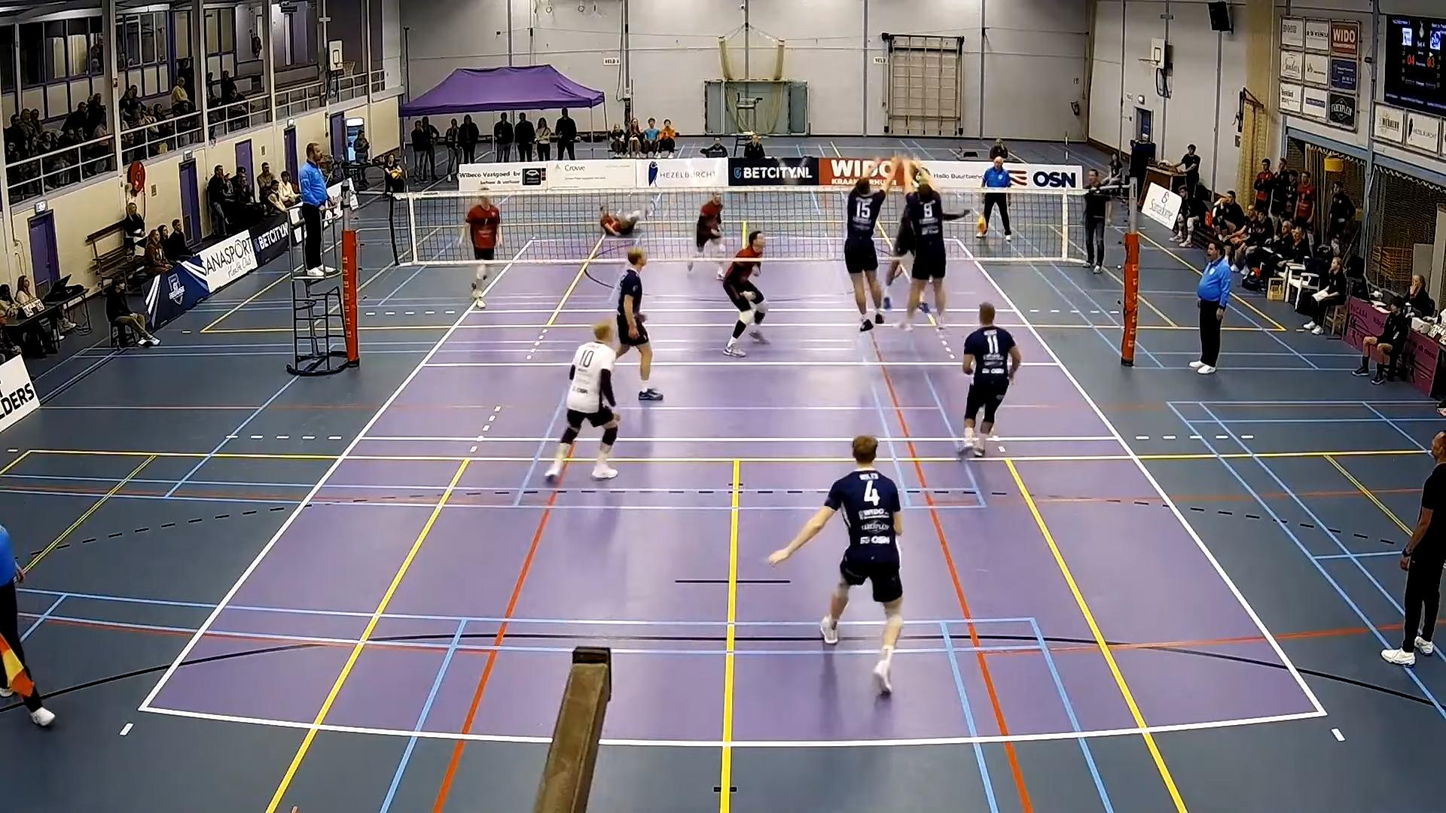Attack: (876, 162, 928, 312)
Block: (831, 153, 893, 337), (892, 155, 947, 334)
Player: (769, 436, 902, 693), (545, 321, 619, 482), (957, 303, 1021, 456), (617, 247, 662, 400), (723, 230, 767, 356), (466, 196, 499, 308), (687, 193, 724, 279), (884, 212, 913, 309), (599, 205, 645, 236)
